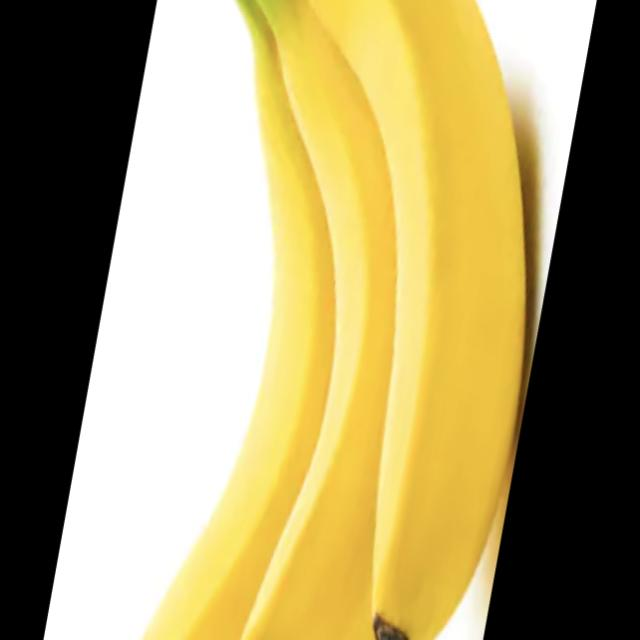god quality banana: (146, 2, 526, 638)
